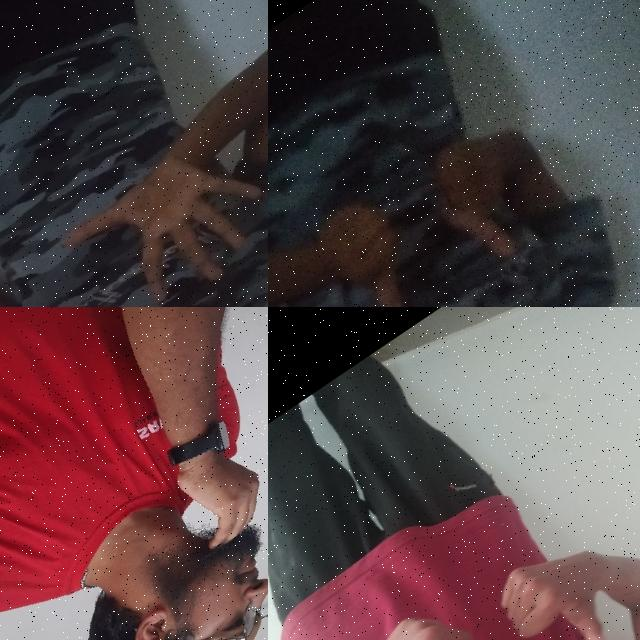Chin Flick: (11, 408, 268, 640)
Moutza: (35, 90, 268, 307)
Thumbs Up: (402, 115, 552, 278), (285, 173, 458, 307), (478, 526, 635, 640), (334, 590, 516, 640)
